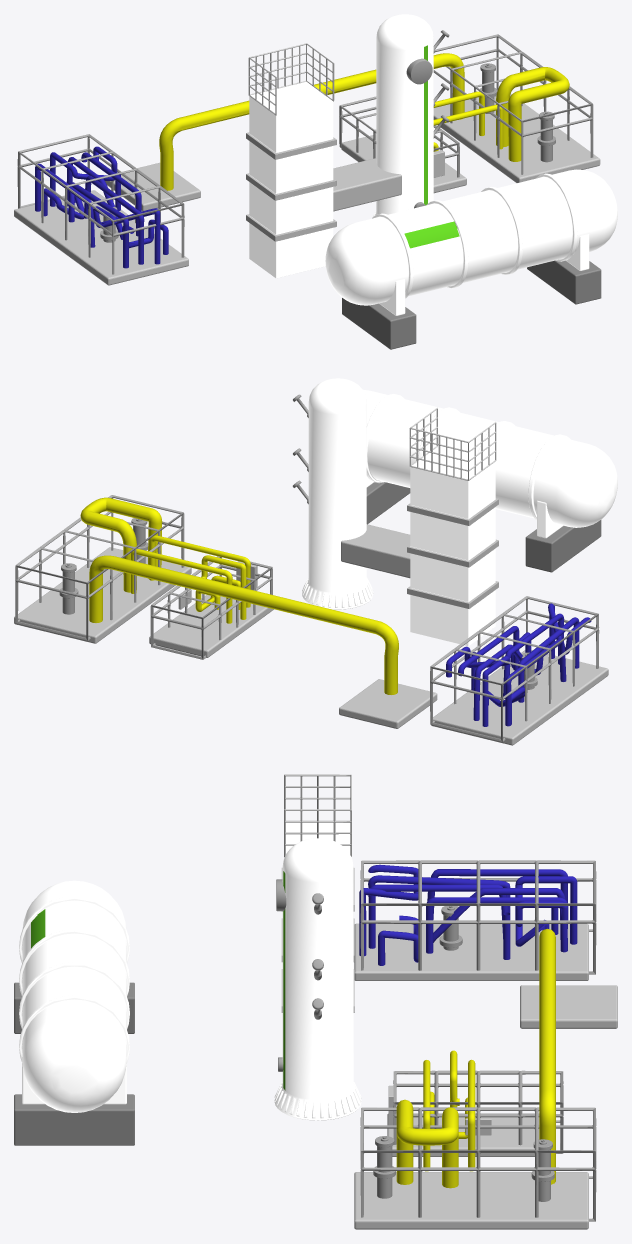
Rendered from wodorowy_hub.glb.
3 renders of one model, top to bottom at view 1: azimuth 30°, elevation 25°; view 2: azimuth 150°, elevation 25°; view 3: azimuth 270°, elevation 25°, orthographic. The views are drawn at different scales.
Parts seen in each view (by area): view 1: Cylinder.060, Cube.398, Cylinder.061, BézierCurve.015, Cube.403, BézierCurve.018, Cube.397, Cube.402, Cube.396, Cube.392, Cube.399, Cube.401 (+7 smaller); view 2: Cylinder.060, Cube.398, Cylinder.061, BézierCurve.015, Cube.403, Cube.402, BézierCurve.018, Cube.396, Cube.397, Cube.392, Cube.400, BézierCurve.017 (+5 smaller); view 3: Cylinder.060, Cylinder.061, Cube.402, BézierCurve.018, Cube.403, BézierCurve.015, Cube.397, Cube.392, Cube.396, Cube.404, Cube.393, Cube.400 (+6 smaller).
Boxes of the visible parts, x1=… form: Cylinder.060: x1=325, y1=169, x2=617, y2=305; Cube.398: x1=246, y1=81, x2=336, y2=278; Cylinder.061: x1=373, y1=14, x2=433, y2=216; BézierCurve.015: x1=159, y1=53, x2=569, y2=190; Cube.403: x1=14, y1=190, x2=188, y2=285; BézierCurve.018: x1=35, y1=146, x2=168, y2=268; Cube.397: x1=342, y1=234, x2=601, y2=349; Cube.402: x1=433, y1=93, x2=600, y2=182; Cube.396: x1=17, y1=134, x2=184, y2=274; Cube.392: x1=433, y1=34, x2=593, y2=174; Cube.399: x1=333, y1=158, x2=401, y2=211; Cube.401: x1=248, y1=43, x2=334, y2=115; Cylinder.060: x1=363, y1=389, x2=617, y2=527; Cube.398: x1=407, y1=446, x2=498, y2=646; Cylinder.061: x1=302, y1=378, x2=373, y2=609; BézierCurve.015: x1=80, y1=497, x2=398, y2=694; Cube.403: x1=431, y1=650, x2=608, y2=745; Cube.402: x1=14, y1=547, x2=191, y2=643; BézierCurve.018: x1=446, y1=603, x2=591, y2=726; Cube.396: x1=430, y1=596, x2=599, y2=741; Cube.397: x1=366, y1=476, x2=601, y2=572; Cube.392: x1=15, y1=495, x2=184, y2=640; Cube.400: x1=149, y1=595, x2=273, y2=657; BézierCurve.017: x1=131, y1=535, x2=250, y2=623; Cylinder.060: x1=19, y1=880, x2=129, y2=1112; Cylinder.061: x1=274, y1=838, x2=361, y2=1120; Cube.402: x1=354, y1=1172, x2=588, y2=1229; BézierCurve.018: x1=359, y1=864, x2=577, y2=965; Cube.403: x1=354, y1=923, x2=588, y2=980; BézierCurve.015: x1=396, y1=928, x2=555, y2=1188; Cube.397: x1=14, y1=982, x2=134, y2=1145; Cube.392: x1=360, y1=1107, x2=596, y2=1221; Cube.396: x1=360, y1=860, x2=596, y2=974; Cube.404: x1=520, y1=985, x2=617, y2=1028; Cube.393: x1=393, y1=1070, x2=563, y2=1153; Cube.400: x1=387, y1=1113, x2=539, y2=1156.
Bounding box in the file's own units: 3.18 × 1.36 × 2.72.
